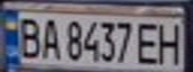3: (97, 18, 118, 63)
4: (81, 18, 100, 62)
7: (115, 18, 136, 64)
8: (63, 17, 84, 61)
A: (36, 16, 63, 60)
B: (15, 14, 42, 58)
E: (136, 19, 163, 65)
H: (154, 19, 187, 65)
